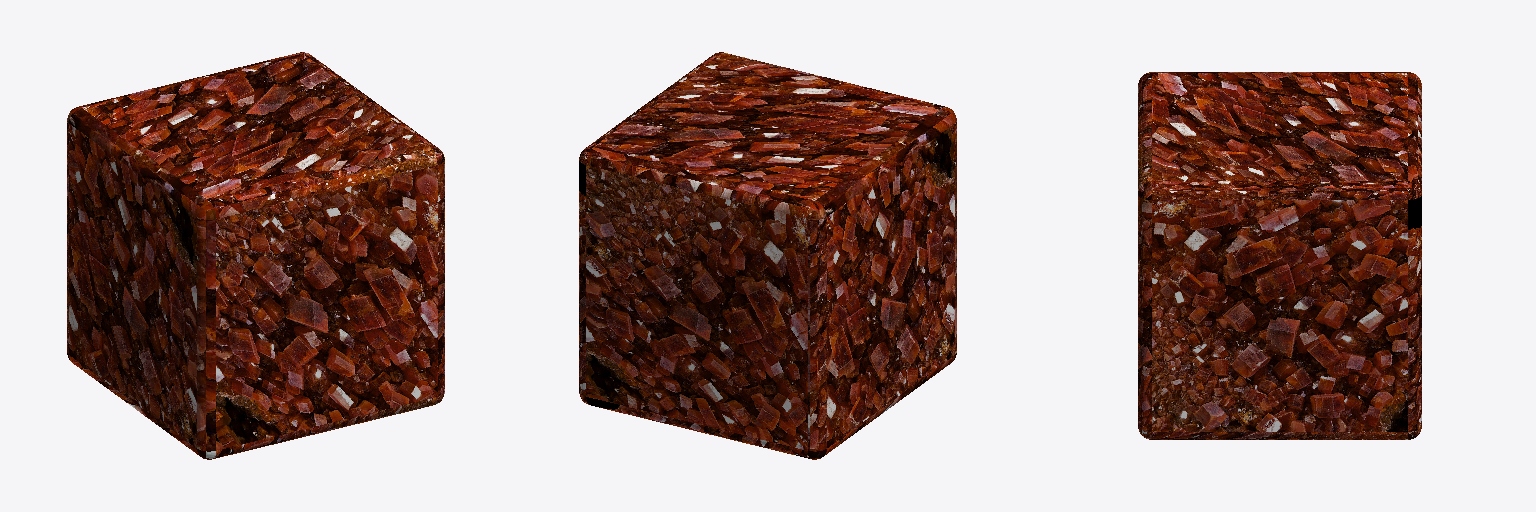
3 views of the same model, side by side, from view 1: azimuth 30°, elevation 25°; view 2: azimuth 150°, elevation 25°; view 3: azimuth 270°, elevation 25° (orthographic).
Parts seen in each view (by area): view 1: Cube; view 2: Cube; view 3: Cube.
Boxes of the visible parts, x1=… form: Cube: x1=67, y1=52, x2=444, y2=459; Cube: x1=579, y1=52, x2=956, y2=459; Cube: x1=1138, y1=72, x2=1421, y2=439.
Size of the model in its own units: 2 by 2 by 2.
1 materials, 1 textured.